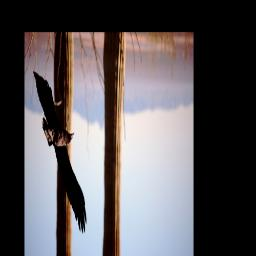Crow: (32, 68, 88, 236)
